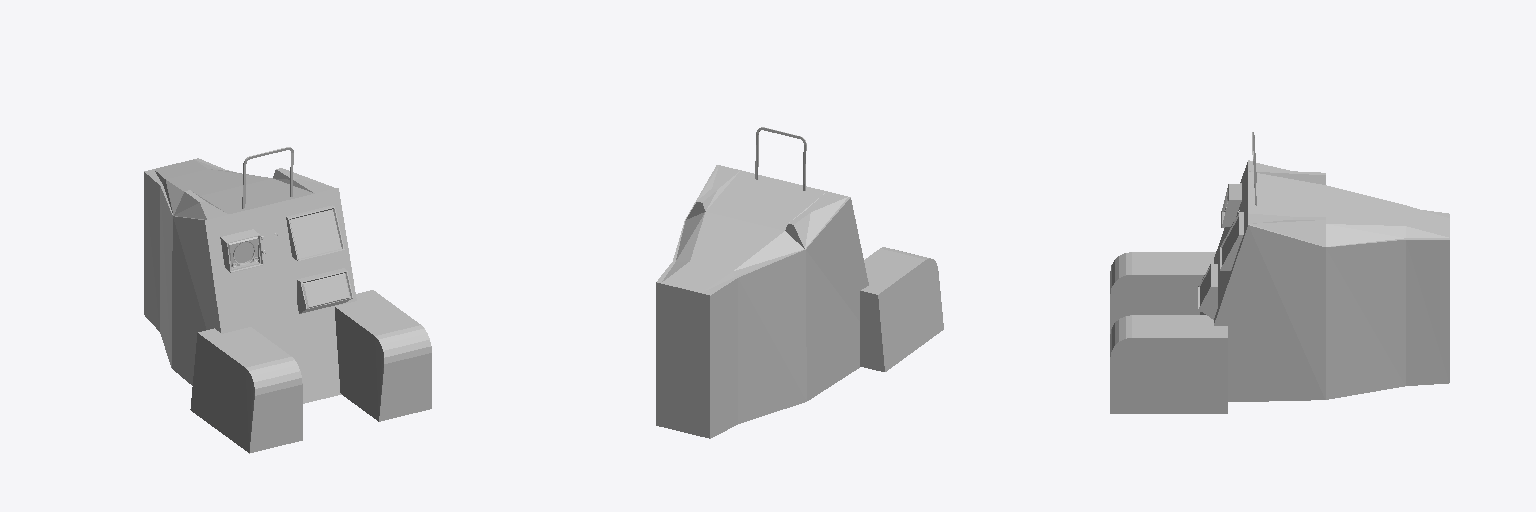
Rendered from panel.obj.
3 renders of one model, left to right at view 1: azimuth 30°, elevation 25°; view 2: azimuth 150°, elevation 25°; view 3: azimuth 270°, elevation 25°, orthographic.
Parts seen in each view (by area): view 1: Cube.001_Cube.007; view 2: Cube.001_Cube.007; view 3: Cube.001_Cube.007.
Part boxes in pixels (x1,y1,x2,y2): Cube.001_Cube.007: (144,147,431,453); Cube.001_Cube.007: (656,127,943,438); Cube.001_Cube.007: (1110,132,1449,413).
Bounding box in the file's own units: 0.5091 × 0.6083 × 0.8182.